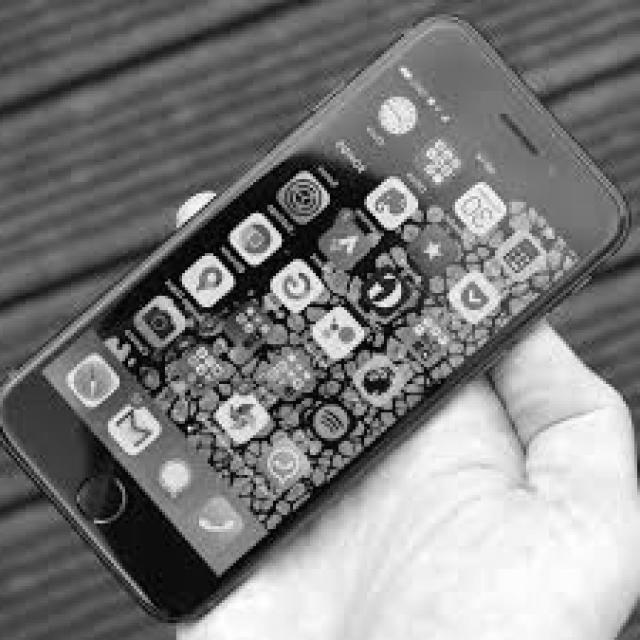fake: (0, 11, 632, 622)
